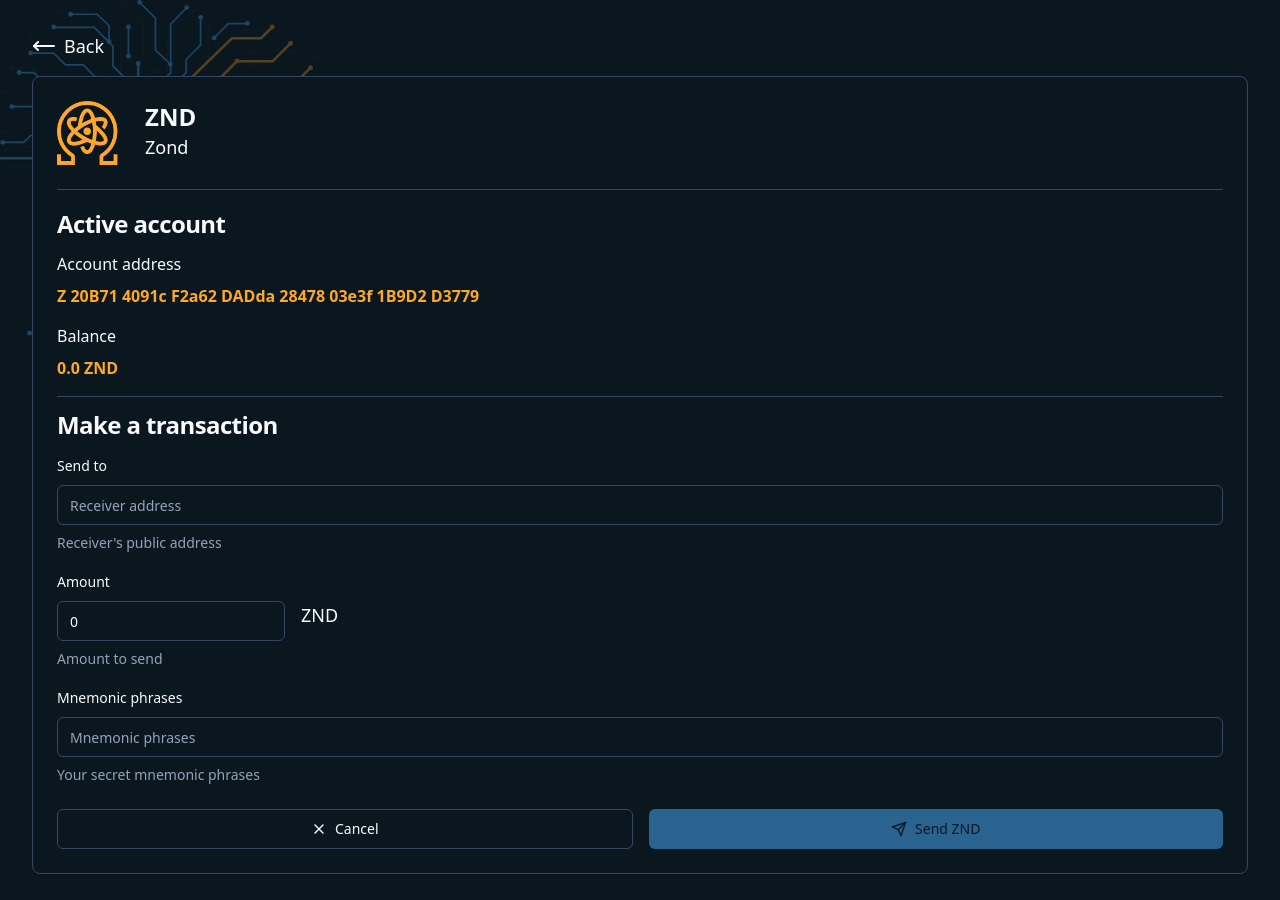
Test: TokenTransfer › should display the error message if mnemonic phrases is empty
Type "0" into the field named "mnemonicPhrases" at point(640, 737), box [57, 717, 1223, 757]
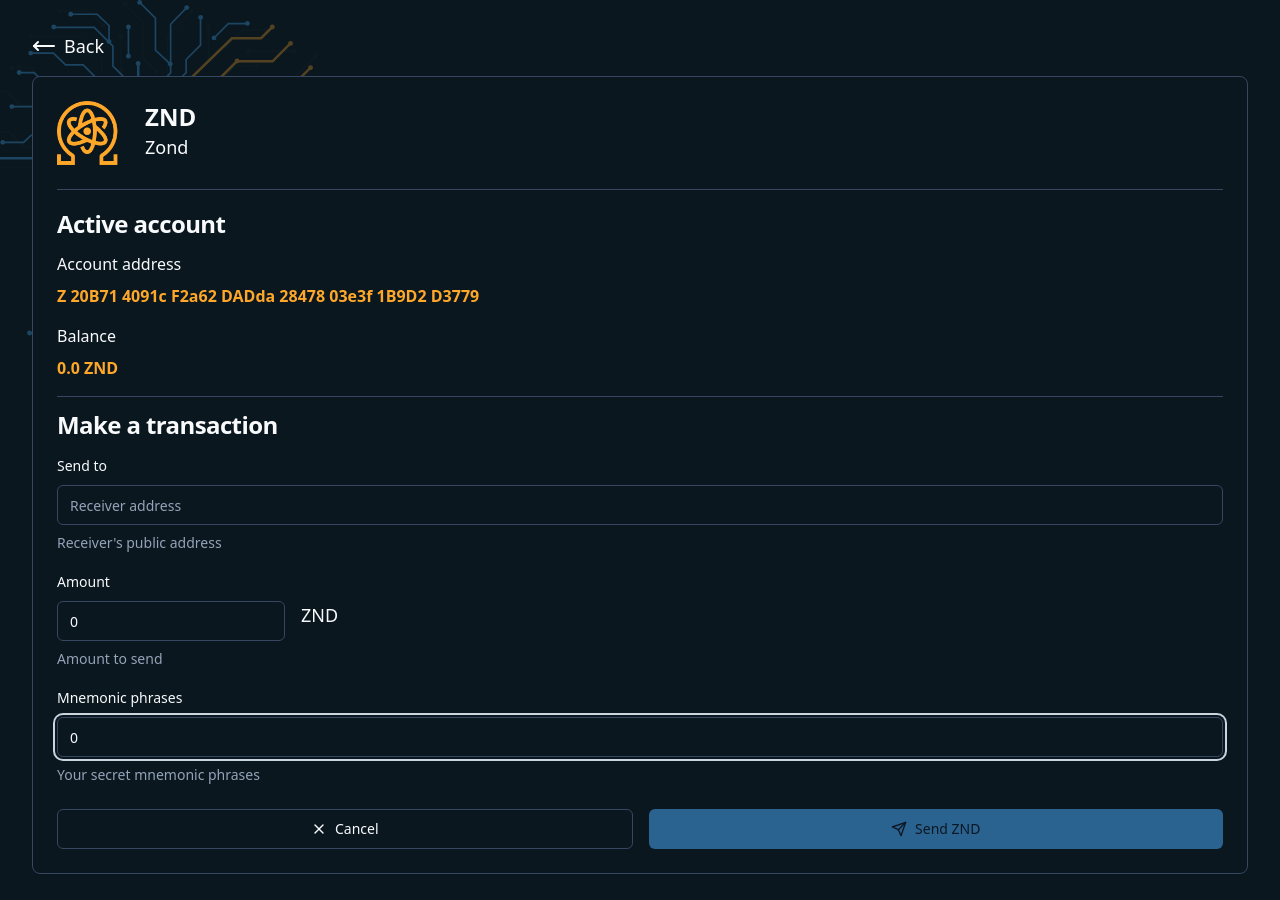
Press Backspace
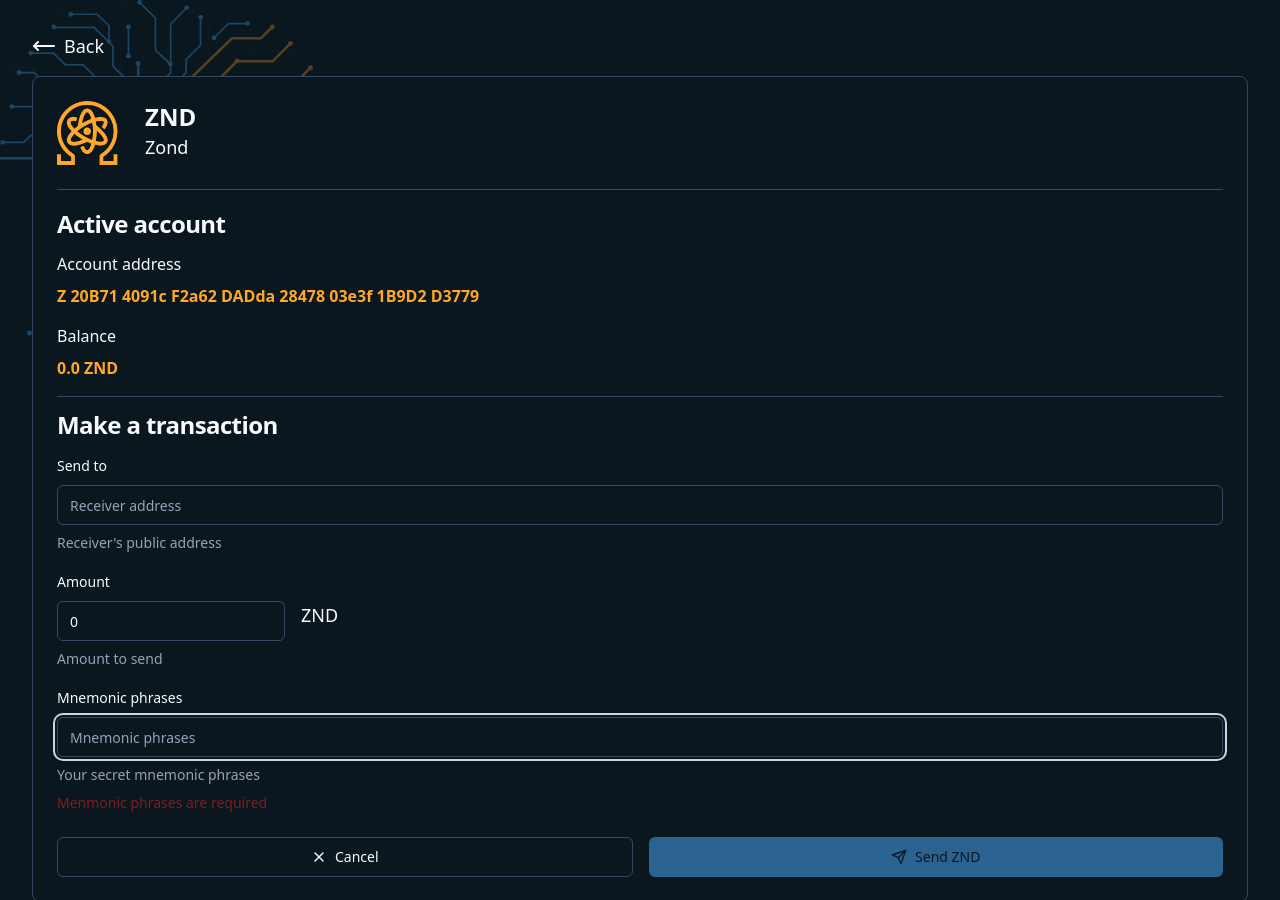
Expected: the text "Menmonic phrases are required" is shown, [57, 793, 267, 812]
